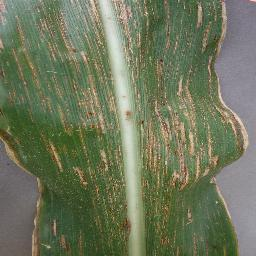Gray_Leaf_Spot: (0, 0, 137, 256), (136, 0, 249, 256)
